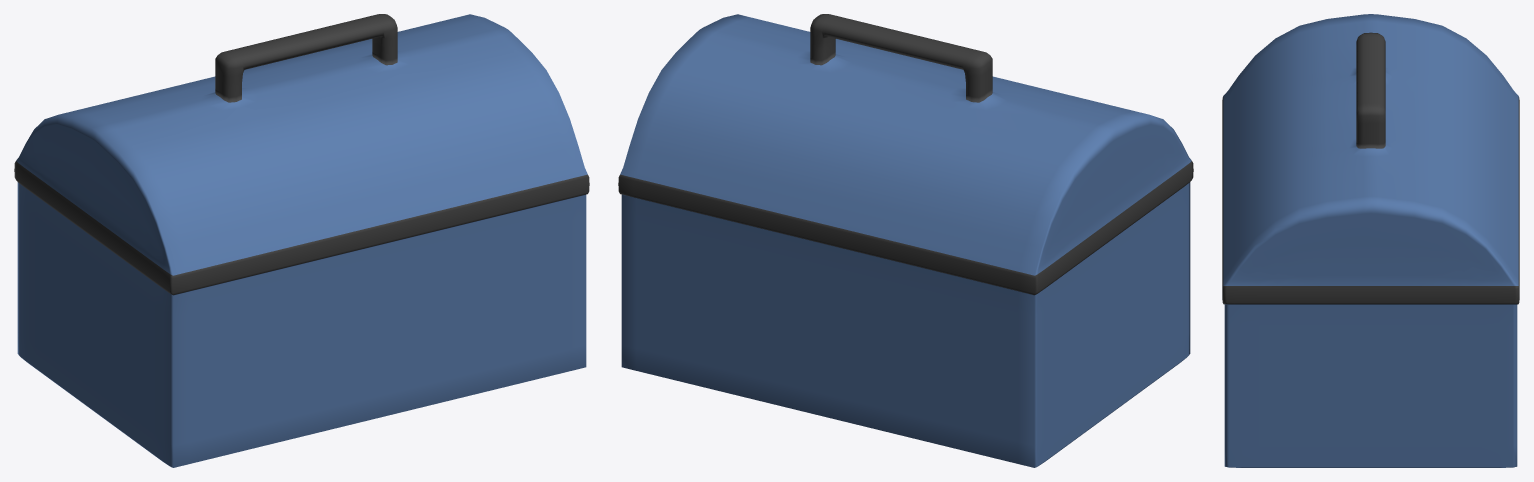
The model's file is lunchBox_01_ah.fbx.
3 views of the same model, side by side, from view 1: azimuth 30°, elevation 25°; view 2: azimuth 150°, elevation 25°; view 3: azimuth 270°, elevation 25° (orthographic). The views are drawn at different scales.
Parts seen in each view (by area): view 1: lunchBox_01; view 2: lunchBox_01; view 3: lunchBox_01.
Part boxes in pixels (x1,y1,x2,y2): lunchBox_01: (14,14,589,467); lunchBox_01: (618,14,1193,467); lunchBox_01: (1222,14,1519,467).
Size of the model in its own units: 1.55 by 1.15 by 1.02.
